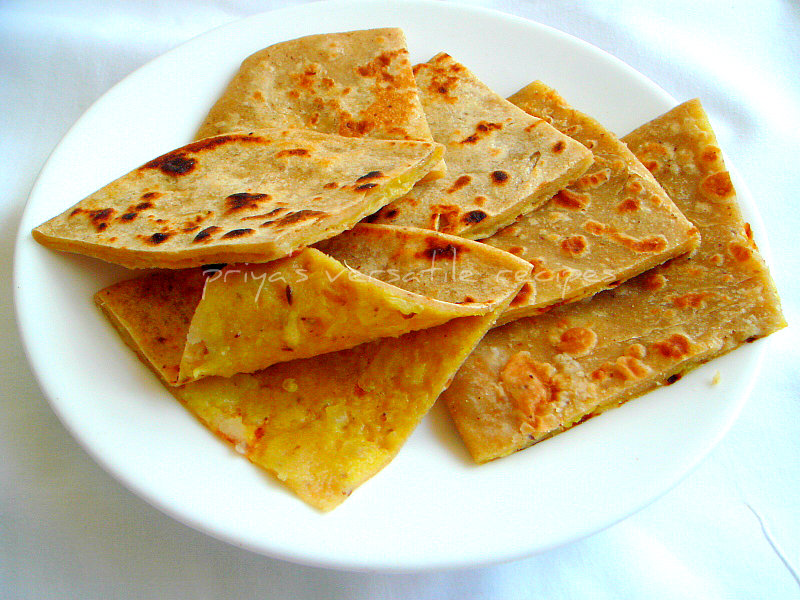aloo_paratha: (30, 25, 787, 519)
